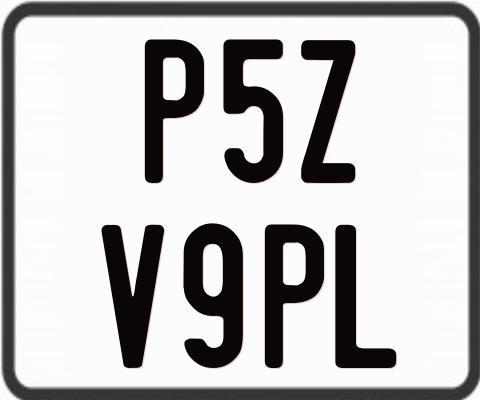5: (223, 39, 285, 188)
9: (183, 222, 249, 372)
L: (332, 223, 394, 368)
P: (143, 37, 206, 183), (265, 222, 325, 370)
V: (99, 223, 165, 371)
Z: (301, 39, 360, 182)
